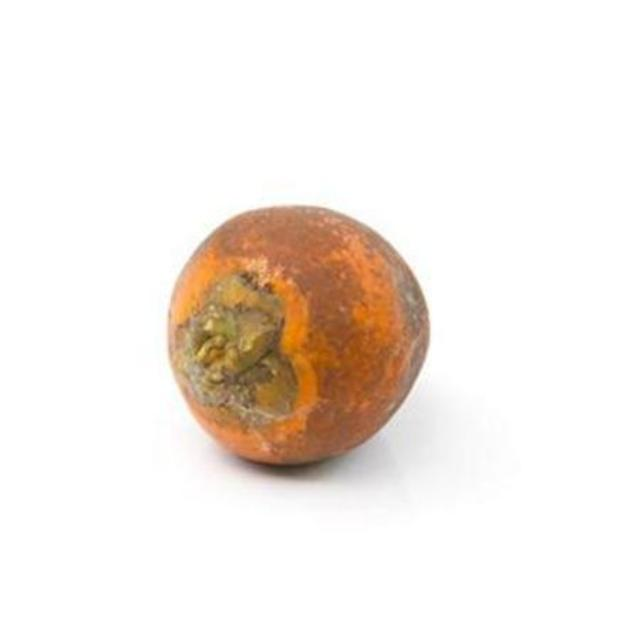good: (165, 207, 431, 467)
